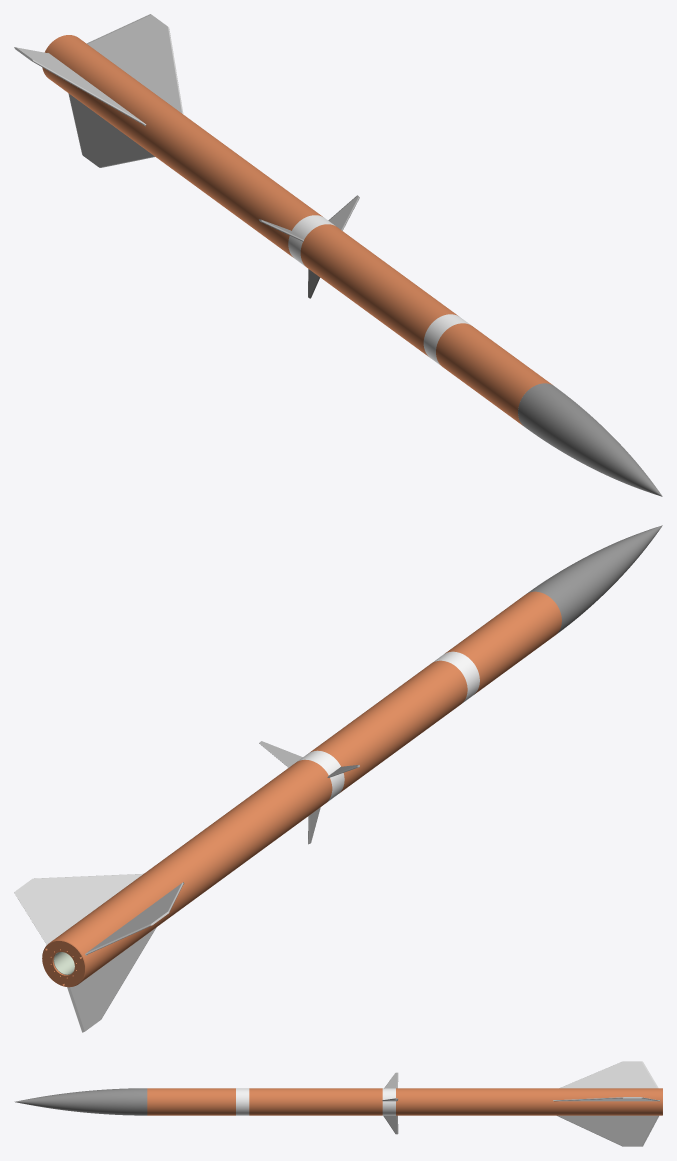
File: ARES Rocket Assembly.gltf
3 renders of one model, top to bottom at view 1: azimuth 30°, elevation 25°; view 2: azimuth 150°, elevation 25°; view 3: azimuth 270°, elevation 25°, orthographic. The views are drawn at different scales.
Parts seen in each view (by area): view 1: Lower Body Tube, Lower Fin (×3), Middle Body Tube, Nose Cone, Upper Body Tube, Switch Band (×2); view 2: Lower Body Tube, Lower Fin (×3), Middle Body Tube, Upper Body Tube, Nose Cone, Switch Band (×2), Thrust Plate; view 3: Lower Body Tube, Lower Fin (×3), Middle Body Tube, Nose Cone, Upper Body Tube, Switch Band (×2), Part 1.
Boxes of the visible parts, x1,y1,x2,y2 form: Lower Body Tube: [42, 35, 322, 257]; Lower Fin (×3): [14, 14, 183, 167]; Middle Body Tube: [300, 224, 457, 356]; Nose Cone: [518, 383, 662, 496]; Upper Body Tube: [436, 323, 552, 425]; Switch Band (×2): [288, 215, 470, 365]; Lower Body Tube: [51, 759, 332, 982]; Lower Fin (×3): [14, 873, 183, 1032]; Middle Body Tube: [310, 660, 467, 793]; Upper Body Tube: [445, 591, 561, 694]; Nose Cone: [527, 525, 662, 634]; Switch Band (×2): [297, 651, 479, 801]; Thrust Plate: [42, 940, 86, 987]; Lower Body Tube: [396, 1088, 662, 1115]; Lower Fin (×3): [553, 1061, 659, 1146]; Middle Body Tube: [249, 1088, 382, 1115]; Nose Cone: [14, 1088, 147, 1115]; Upper Body Tube: [147, 1088, 235, 1115]; Switch Band (×2): [236, 1088, 395, 1115]; Part 1: [383, 1115, 398, 1134].
Bounding box in the file's own units: 0.4908 × 0.4254 × 3.71.
